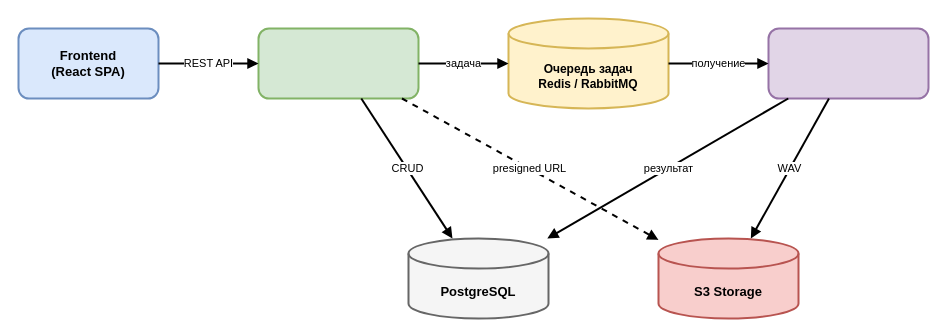
Image size: 946x336. Some labels were removed from this diagram. The centre of each missing label's shape, as x and y in pixels:
API Service CRUD + Auth: (338,63)
ASR Worker VOSK + Parser: (848,63)
